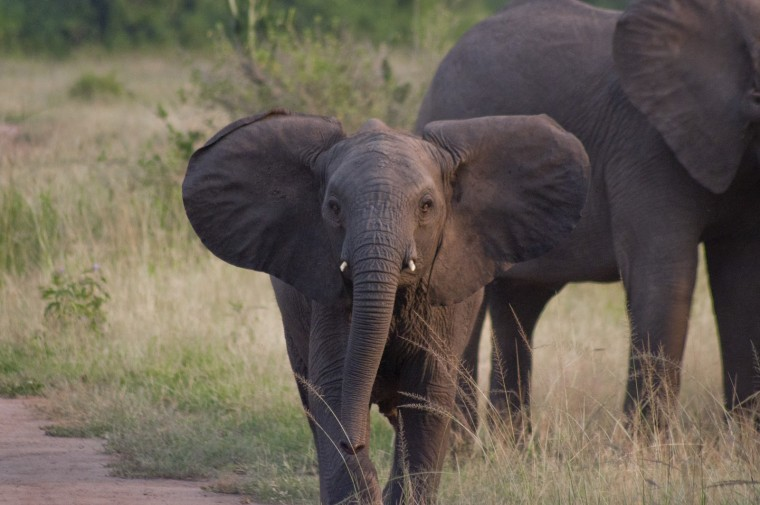africanelephant: (303, 109, 529, 389)
